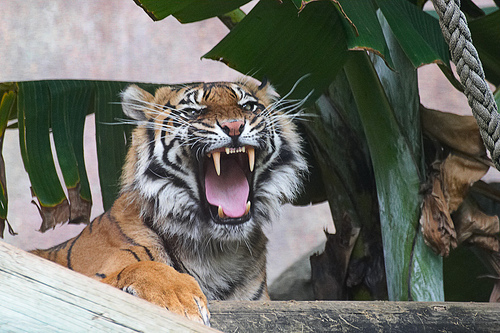Tigre: (112, 73, 291, 283)
